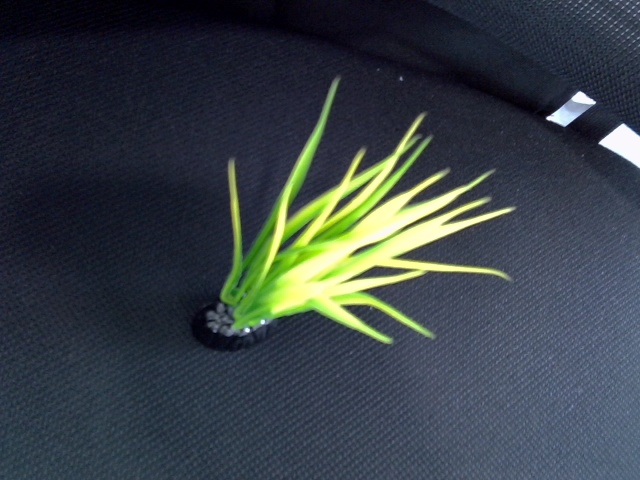해바라기새싹: (192, 92, 517, 351)
